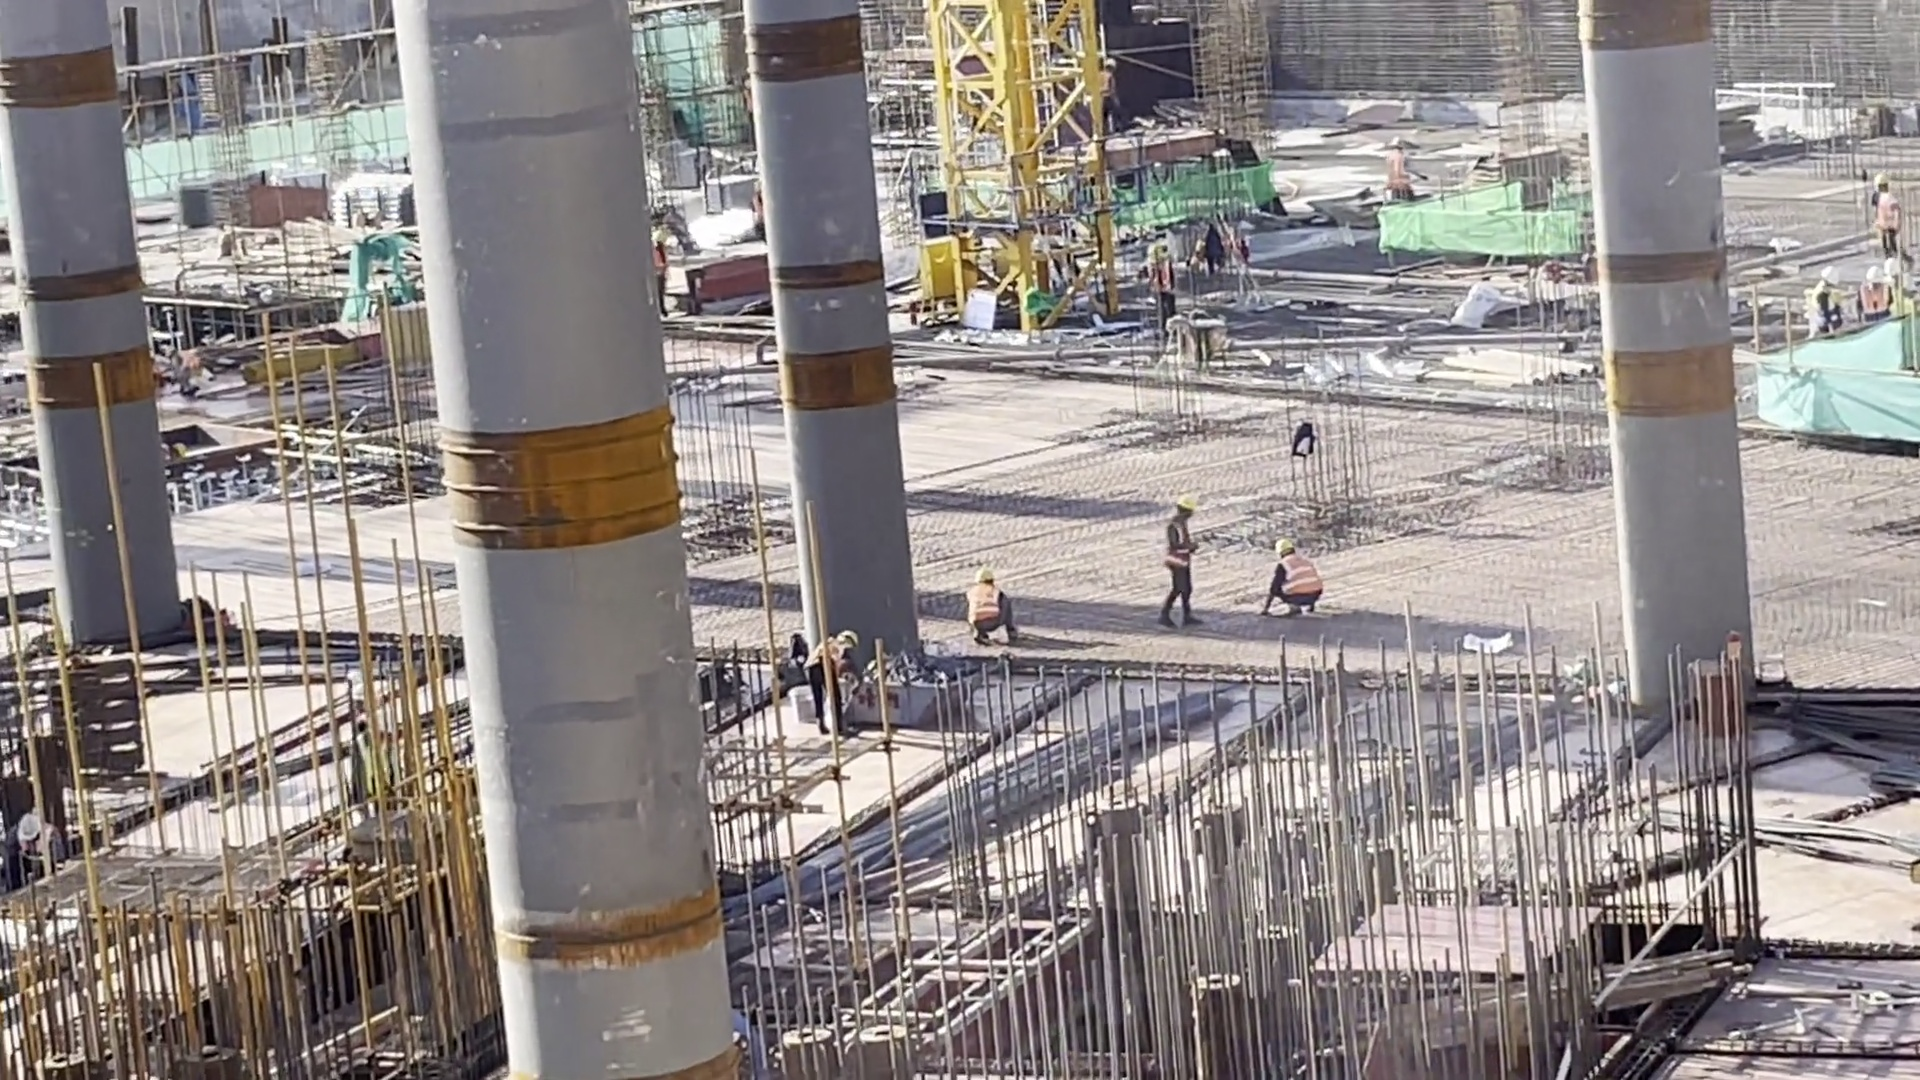helmet: (1821, 258, 1842, 290), (838, 623, 859, 645), (1870, 171, 1893, 191), (970, 567, 993, 584), (1886, 252, 1902, 276), (1175, 493, 1199, 508), (1869, 264, 1884, 285), (1276, 535, 1294, 552), (1388, 135, 1407, 150)
hopper: (828, 639, 959, 745)
person: (1144, 474, 1203, 654), (796, 616, 863, 727), (959, 552, 1021, 663), (1271, 524, 1318, 624), (1864, 172, 1897, 272), (1885, 254, 1915, 349), (1385, 135, 1419, 216), (1152, 234, 1184, 316), (1815, 263, 1840, 346), (1858, 258, 1882, 334)
vest: (1278, 554, 1318, 602), (970, 585, 1002, 629), (813, 641, 847, 680), (1812, 285, 1842, 322), (1167, 520, 1189, 567), (1875, 191, 1896, 231), (1862, 285, 1885, 318), (1393, 151, 1410, 187)
